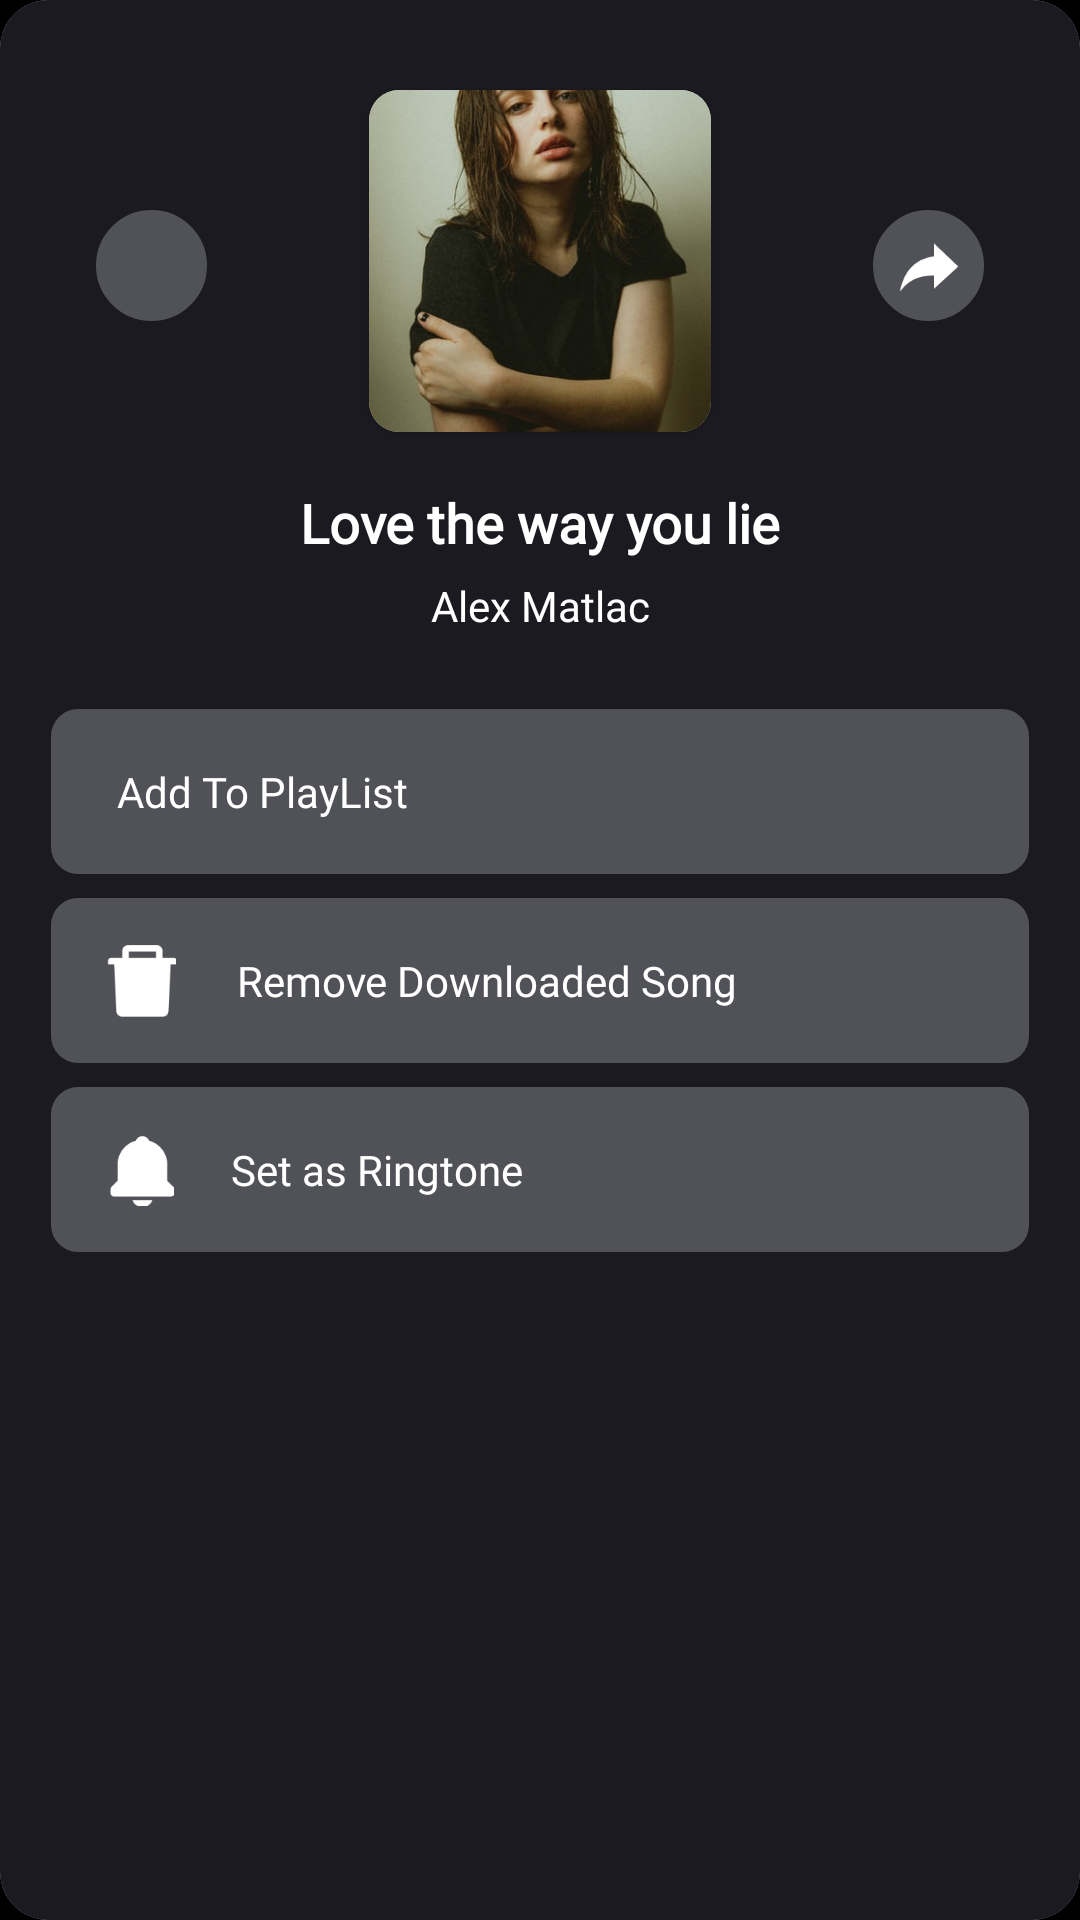

Icons on this 1080*1920 Android screen, each with the point to tap as point (x, y):
delete: point (141, 981)
share: point (929, 267)
